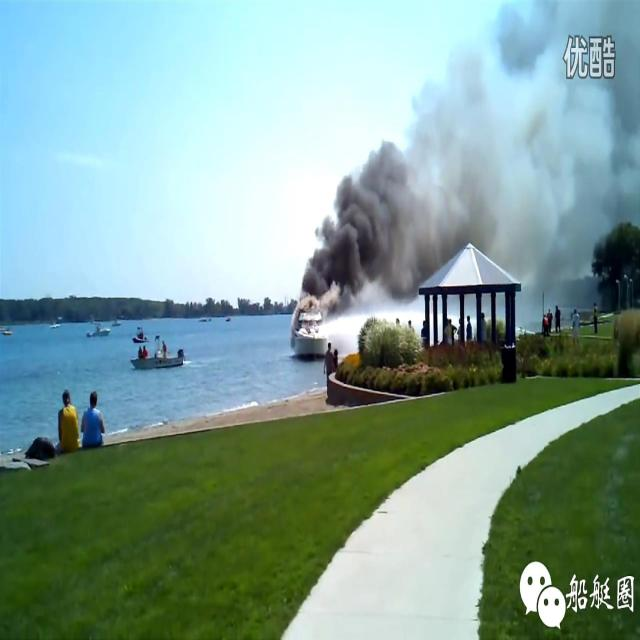smoke: (301, 6, 640, 292)
